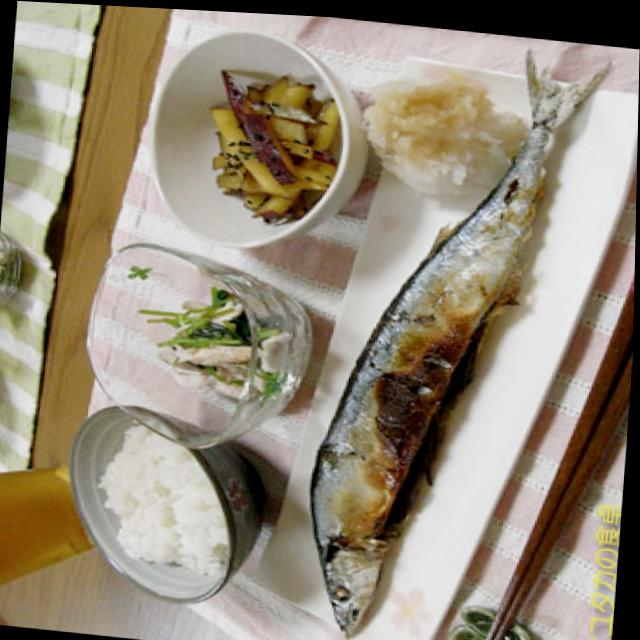熟制海鲜: (276, 12, 614, 640)
